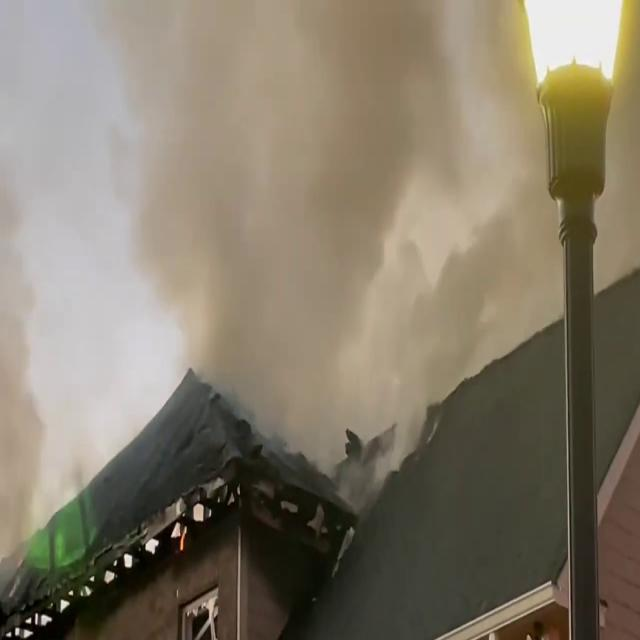Smoke: (126, 0, 492, 434)
